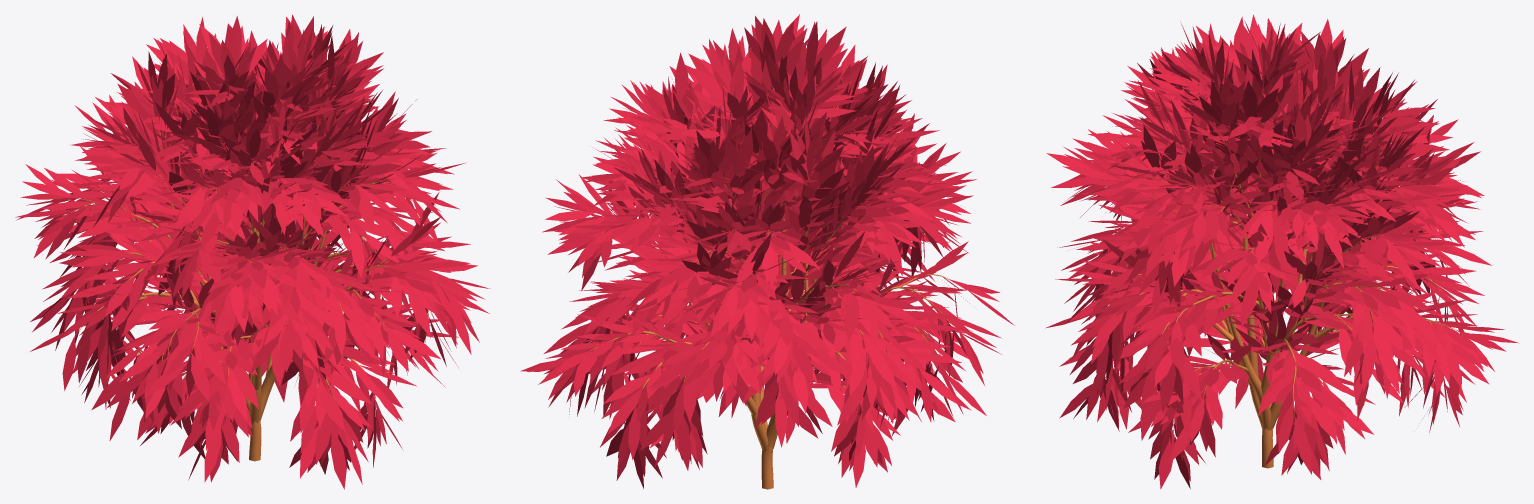
The model's file is Tree_01.fbx.
3 renders of one model, left to right at view 1: azimuth 30°, elevation 25°; view 2: azimuth 150°, elevation 25°; view 3: azimuth 270°, elevation 25°, orthographic.
Parts seen in each view (by area): view 1: leaves, tree; view 2: leaves, tree; view 3: leaves, tree.
Boxes of the visible parts, bbox=[...] form: leaves: bbox=[15, 14, 489, 489]; tree: bbox=[71, 104, 442, 461]; leaves: bbox=[520, 14, 1014, 488]; tree: bbox=[589, 111, 955, 489]; leaves: bbox=[1045, 14, 1518, 489]; tree: bbox=[1105, 77, 1458, 468].
Bounding box in the file's own units: 17.36 × 18.63 × 18.25.
